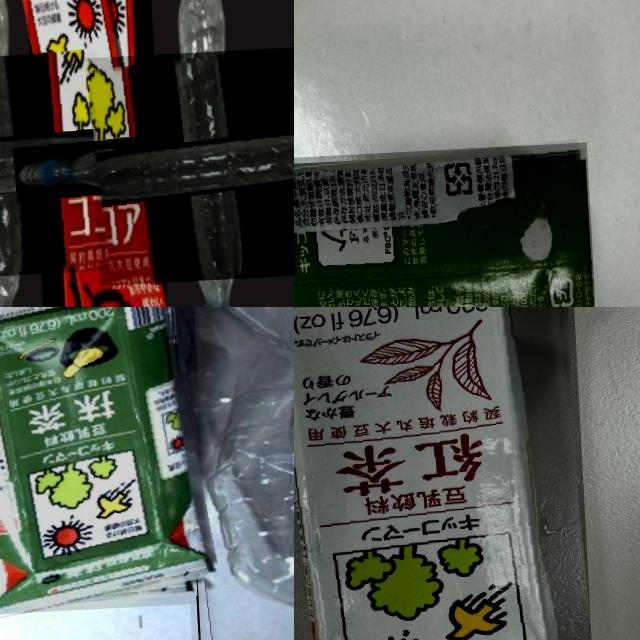Aluminium Foil: (294, 307, 597, 640), (0, 307, 210, 617), (294, 142, 598, 307), (25, 0, 172, 307)
Transparent Plastic Bottle: (88, 46, 294, 286), (171, 307, 294, 640), (0, 51, 108, 282)
